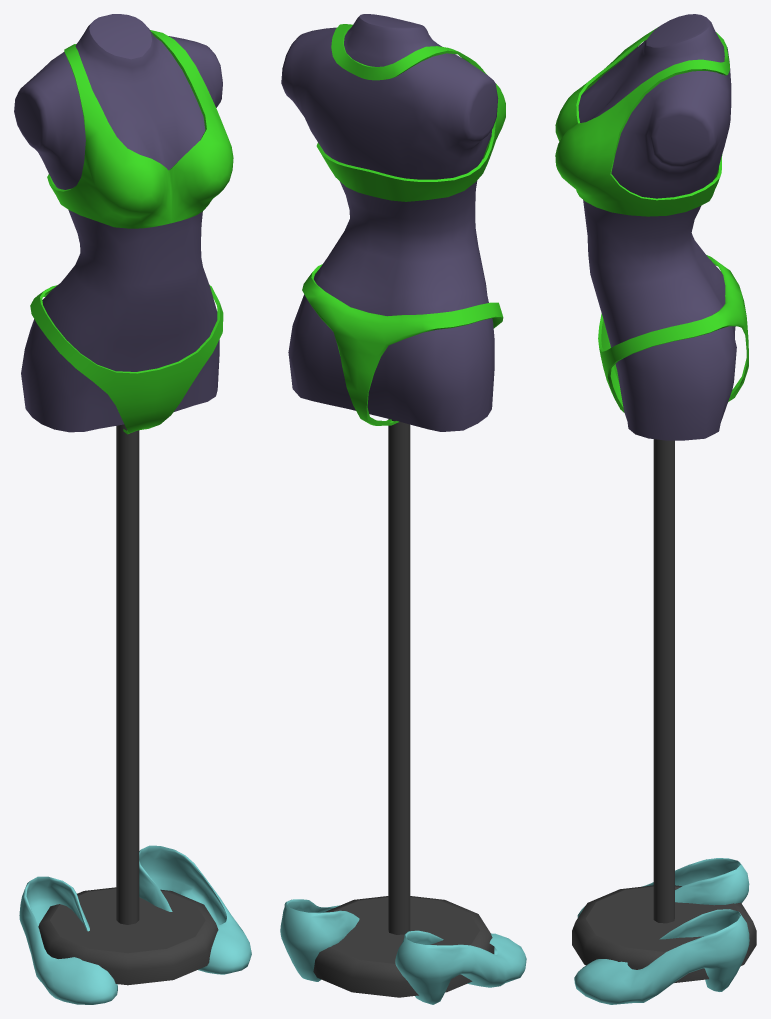
The model's file is Dress_1.fbx.
3 renders of one model, left to right at view 1: azimuth 30°, elevation 25°; view 2: azimuth 150°, elevation 25°; view 3: azimuth 270°, elevation 25°, orthographic. The views are drawn at different scales.
Visible parts, largest first — view 1: dummy_1, dress_0, shoes_0; view 2: dummy_1, dress_0, shoes_0; view 3: dummy_1, dress_0, shoes_0.
Boxes of the visible parts, <box> form: dummy_1: <box>14,14,222,985</box>; dress_0: <box>30,30,233,434</box>; shoes_0: <box>19,845,251,1004</box>; dummy_1: <box>281,14,498,997</box>; dress_0: <box>302,24,505,425</box>; shoes_0: <box>280,899,526,1004</box>; dummy_1: <box>572,14,756,982</box>; dress_0: <box>555,27,748,412</box>; shoes_0: <box>574,858,749,1004</box>.
Size of the model in its own units: 0.3761 by 1.69 by 0.3287.
